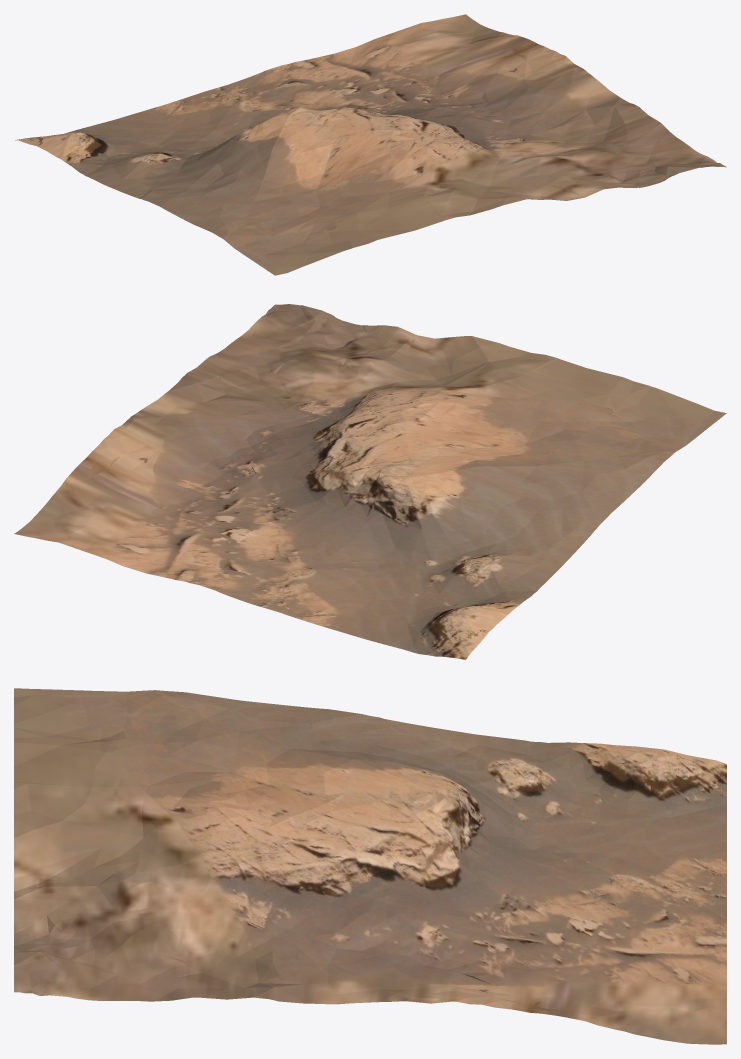
3 views of the same model, one above another, from view 1: azimuth 30°, elevation 25°; view 2: azimuth 150°, elevation 25°; view 3: azimuth 270°, elevation 25° (orthographic). The views are drawn at different scales.
Size of the model in its own units: 1.04 by 0.1704 by 1.04.
2 materials, 2 textured.
